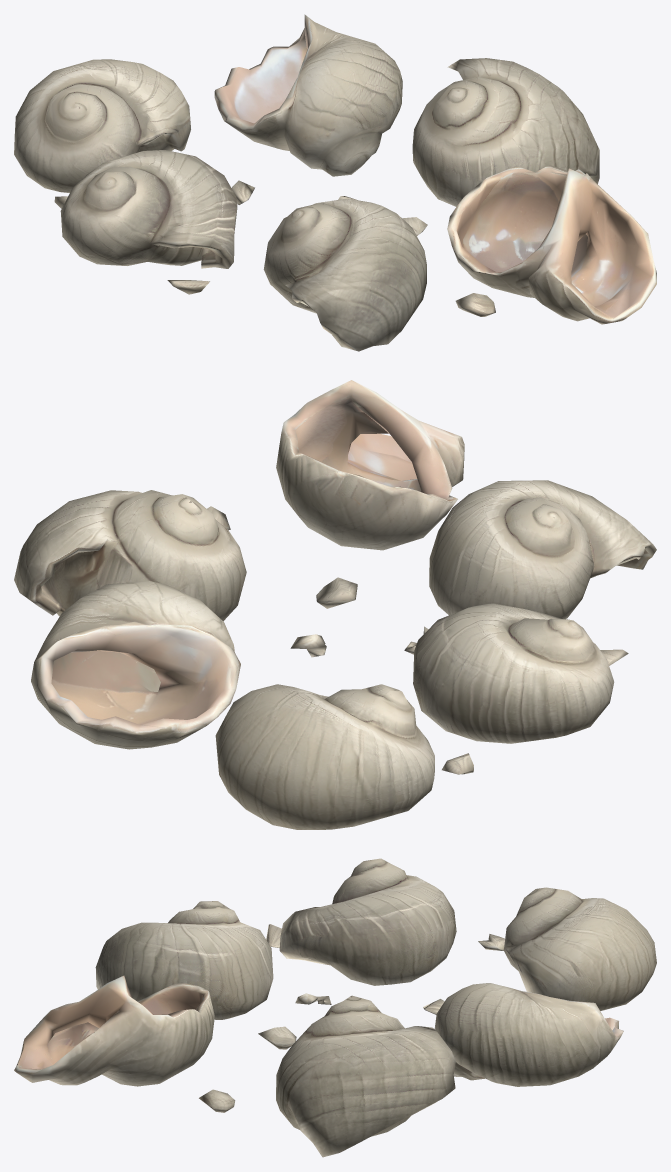
The picture shows the model from 3 angles, top to bottom: view 1: azimuth 30°, elevation 25°; view 2: azimuth 150°, elevation 25°; view 3: azimuth 270°, elevation 25°; orthographic projection. The views are drawn at different scales.
Parts seen in each view (by area): view 1: Mesh_0; view 2: Mesh_0; view 3: Mesh_0.
Boxes of the visible parts, bbox=[...] form: Mesh_0: bbox=[14, 14, 656, 351]; Mesh_0: bbox=[14, 380, 656, 829]; Mesh_0: bbox=[14, 858, 656, 1157].
Size of the model in its own units: 1.59 by 0.4054 by 1.92.
1 material, 1 textured.
